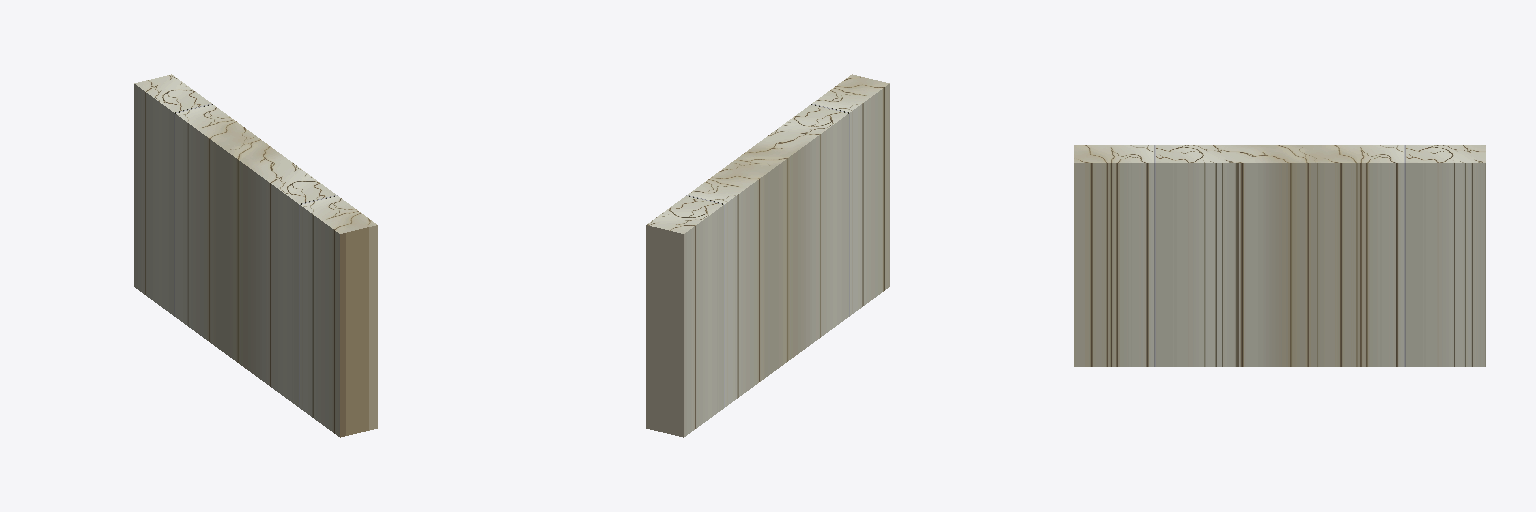
The picture shows the model from 3 angles: view 1: azimuth 30°, elevation 25°; view 2: azimuth 150°, elevation 25°; view 3: azimuth 270°, elevation 25°; orthographic projection.
Parts seen in each view (by area): view 1: Box011; view 2: Box011; view 3: Box011.
Boxes of the visible parts, x1,y1,x2,y2 form: Box011: [134, 74, 377, 437]; Box011: [646, 74, 889, 437]; Box011: [1074, 145, 1485, 366].
Bounding box in the file's own units: 13.78 × 70.87 × 130.
Materials: 1 (1 with a texture image).